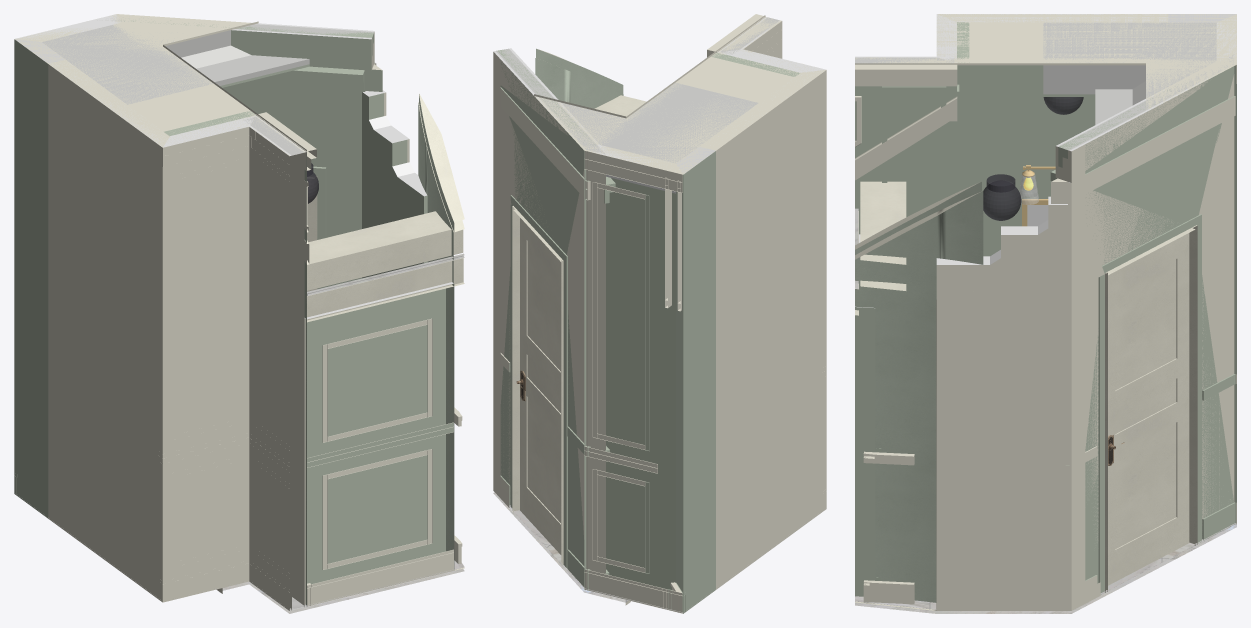
The model's file is powder-room-22bf127314fb.glb.
3 renders of one model, left to right at view 1: azimuth 30°, elevation 25°; view 2: azimuth 150°, elevation 25°; view 3: azimuth 270°, elevation 25°, orthographic. The views are drawn at different scales.
Parts seen in each view (by area): view 1: powder-room-d33eebe572d154f2, powder-room-1a8091885ac212af, powder-room-ab5cb5e7d303dd66, powder-room-85f0fd939e0fcc78, powder-room-9b21989b25895c4a, powder-room-a5eabba2ad6474eb, powder-room-2575515a05775d9e, powder-room-5b07a8f5f7929ff6, powder-room-ca6eafacc0f493ac, powder-room-3d7935a3f1355396, powder-room-261aa5c5ae0f77af, powder-room-b74e3495b7e70350 (+12 smaller); view 2: powder-room-d33eebe572d154f2, powder-room-a5eabba2ad6474eb, powder-room-b2b5f93b4255576d, powder-room-9b21989b25895c4a, powder-room-539cd4ce99668665, powder-room-2575515a05775d9e, powder-room-5b07a8f5f7929ff6, powder-room-86d6fc7292b21ae1, powder-room-ae2ab6de1156d266, powder-room-48dc2409da547ff7, powder-room-b74e3495b7e70350, powder-room-f5fbb4dd3b92b4c5 (+16 smaller); view 3: powder-room-d65b0a574c2ac13c, powder-room-a5eabba2ad6474eb, powder-room-b74e3495b7e70350, powder-room-539cd4ce99668665, powder-room-2575515a05775d9e, powder-room-d33eebe572d154f2, powder-room-5b07a8f5f7929ff6, powder-room-85f0fd939e0fcc78, powder-room-ab5cb5e7d303dd66, powder-room-48dc2409da547ff7, powder-room-86d6fc7292b21ae1, powder-room-48dd1d74e06d76de (+20 smaller).
Part boxes in pixels (x1=…): powder-room-d33eebe572d154f2: x1=48, y1=60, x2=167, y2=601; powder-room-1a8091885ac212af: x1=163, y1=116, x2=255, y2=602; powder-room-ab5cb5e7d303dd66: x1=306, y1=282, x2=454, y2=604; powder-room-85f0fd939e0fcc78: x1=243, y1=115, x2=306, y2=610; powder-room-9b21989b25895c4a: x1=14, y1=39, x2=64, y2=518; powder-room-a5eabba2ad6474eb: x1=97, y1=14, x2=382, y2=286; powder-room-2575515a05775d9e: x1=14, y1=14, x2=306, y2=155; powder-room-5b07a8f5f7929ff6: x1=42, y1=24, x2=309, y2=104; powder-room-ca6eafacc0f493ac: x1=307, y1=211, x2=463, y2=290; powder-room-3d7935a3f1355396: x1=362, y1=92, x2=426, y2=278; powder-room-261aa5c5ae0f77af: x1=306, y1=257, x2=464, y2=322; powder-room-b74e3495b7e70350: x1=418, y1=102, x2=464, y2=570; powder-room-d33eebe572d154f2: x1=710, y1=70, x2=826, y2=589; powder-room-a5eabba2ad6474eb: x1=493, y1=48, x2=605, y2=589; powder-room-b2b5f93b4255576d: x1=584, y1=145, x2=683, y2=613; powder-room-9b21989b25895c4a: x1=676, y1=147, x2=715, y2=613; powder-room-539cd4ce99668665: x1=520, y1=218, x2=561, y2=554; powder-room-2575515a05775d9e: x1=534, y1=15, x2=826, y2=174; powder-room-5b07a8f5f7929ff6: x1=561, y1=82, x2=758, y2=163; powder-room-86d6fc7292b21ae1: x1=512, y1=206, x2=563, y2=565; powder-room-ae2ab6de1156d266: x1=592, y1=182, x2=649, y2=450; powder-room-48dc2409da547ff7: x1=510, y1=195, x2=567, y2=567; powder-room-b74e3495b7e70350: x1=535, y1=58, x2=623, y2=108; powder-room-f5fbb4dd3b92b4c5: x1=584, y1=569, x2=682, y2=613; powder-room-d65b0a574c2ac13c: x1=936, y1=204, x2=1067, y2=610; powder-room-a5eabba2ad6474eb: x1=1051, y1=54, x2=1234, y2=610; powder-room-b74e3495b7e70350: x1=855, y1=191, x2=983, y2=610; powder-room-539cd4ce99668665: x1=1108, y1=233, x2=1189, y2=585; powder-room-2575515a05775d9e: x1=855, y1=14, x2=1236, y2=110; powder-room-d33eebe572d154f2: x1=937, y1=14, x2=1168, y2=256; powder-room-5b07a8f5f7929ff6: x1=1043, y1=22, x2=1216, y2=124; powder-room-85f0fd939e0fcc78: x1=855, y1=56, x2=956, y2=234; powder-room-ab5cb5e7d303dd66: x1=855, y1=234, x2=875, y2=596; powder-room-48dc2409da547ff7: x1=1098, y1=214, x2=1201, y2=594; powder-room-86d6fc7292b21ae1: x1=1105, y1=225, x2=1197, y2=592; powder-room-48dd1d74e06d76de: x1=1085, y1=96, x2=1235, y2=193.
Bounding box in the file's own units: 1.92 × 3.05 × 2.26.
29 materials, 6 textured.
